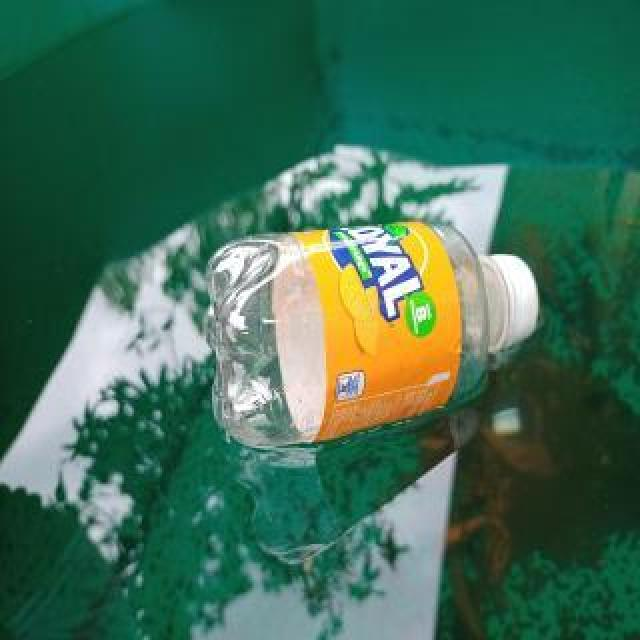bottle: (203, 211, 545, 455)
